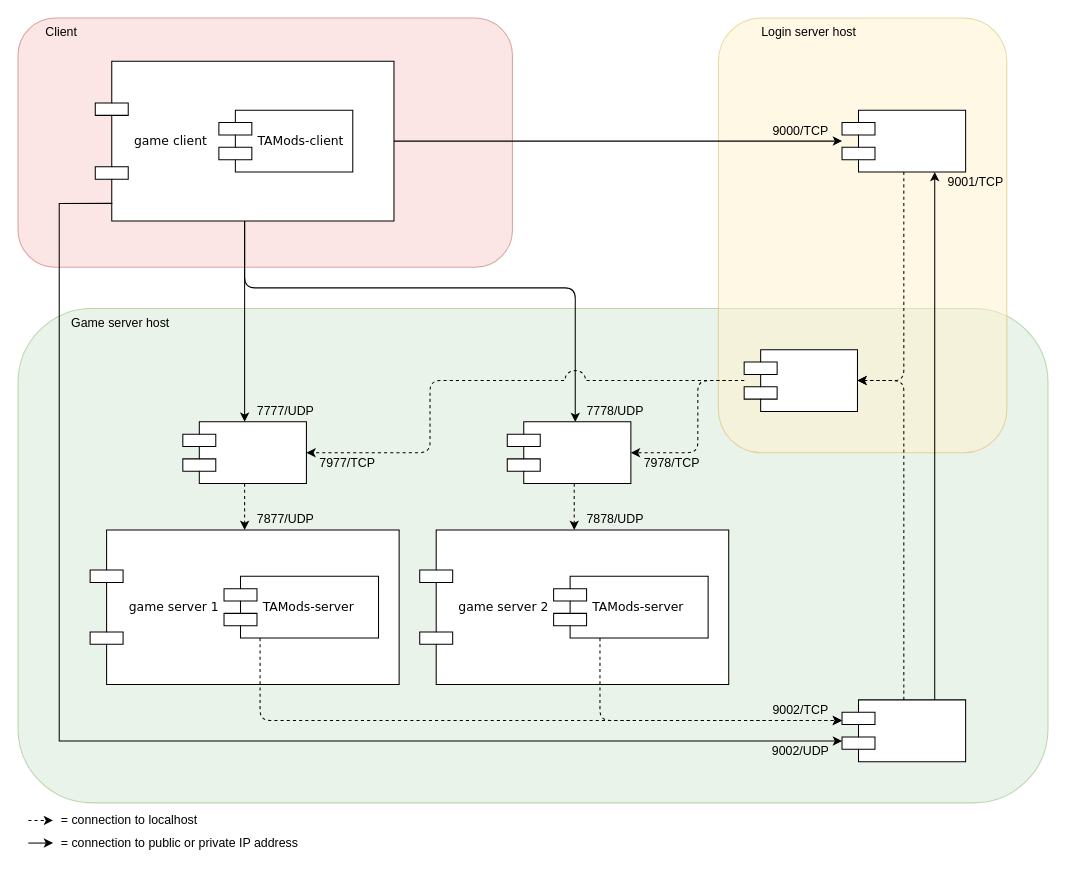
The diagram is 1066 pixels wide and 872 high, and some of its shapes have lost their labels. The shapes that lost their labels are listed below. From the top down, each one's centre as x and y in pixels, then its label:
[903,140]: login server
[800,380]: taserver firewall
[244,452]: udp proxy 1
[568,452]: udp proxy 2
[903,730]: launcher
